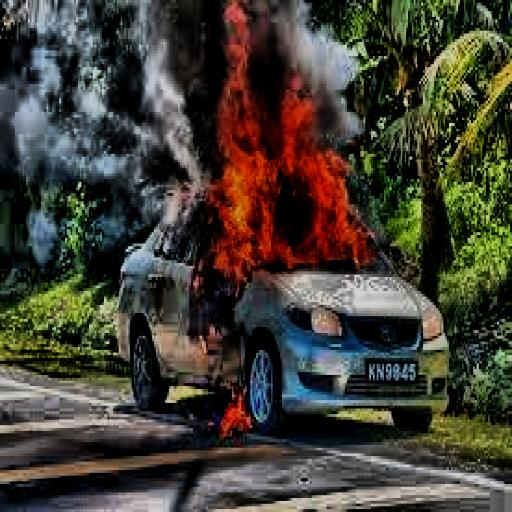fire: (202, 89, 377, 280), (210, 383, 262, 445)
